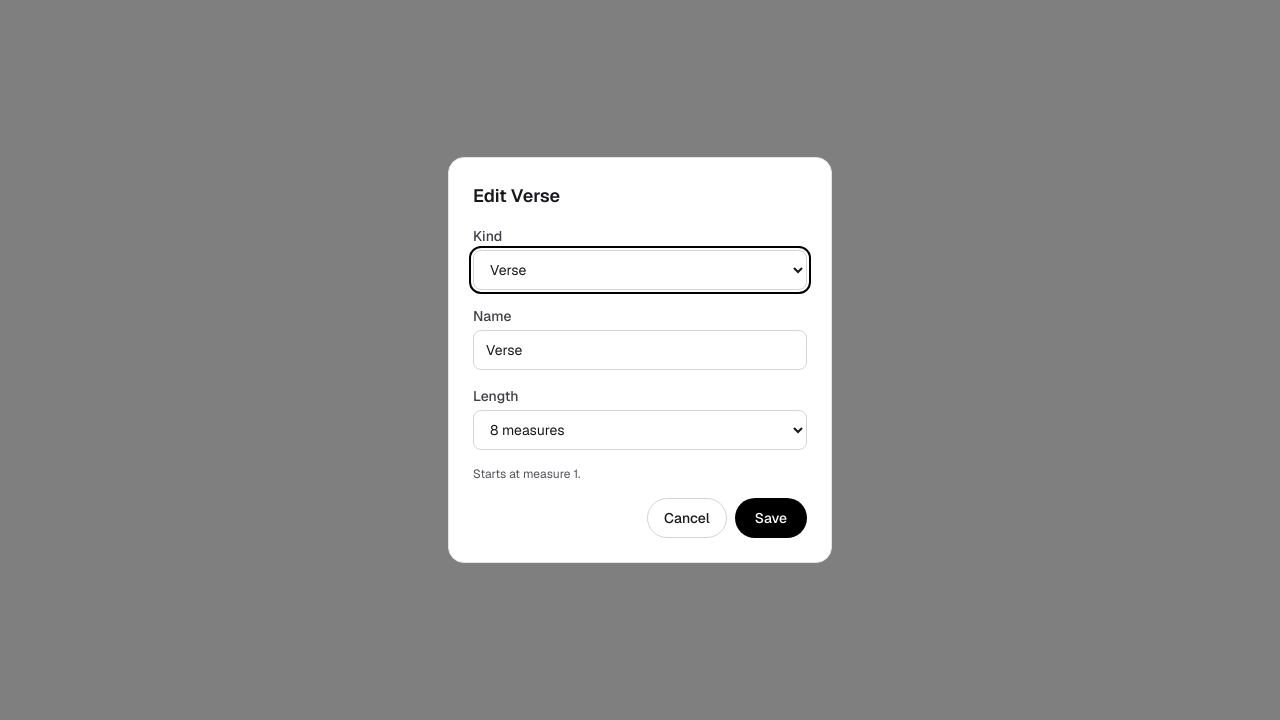
Test: SectionDialog › shows a refusal in the dialog and keeps it open
Click the button "Save": (771, 518) [735, 498, 807, 538]
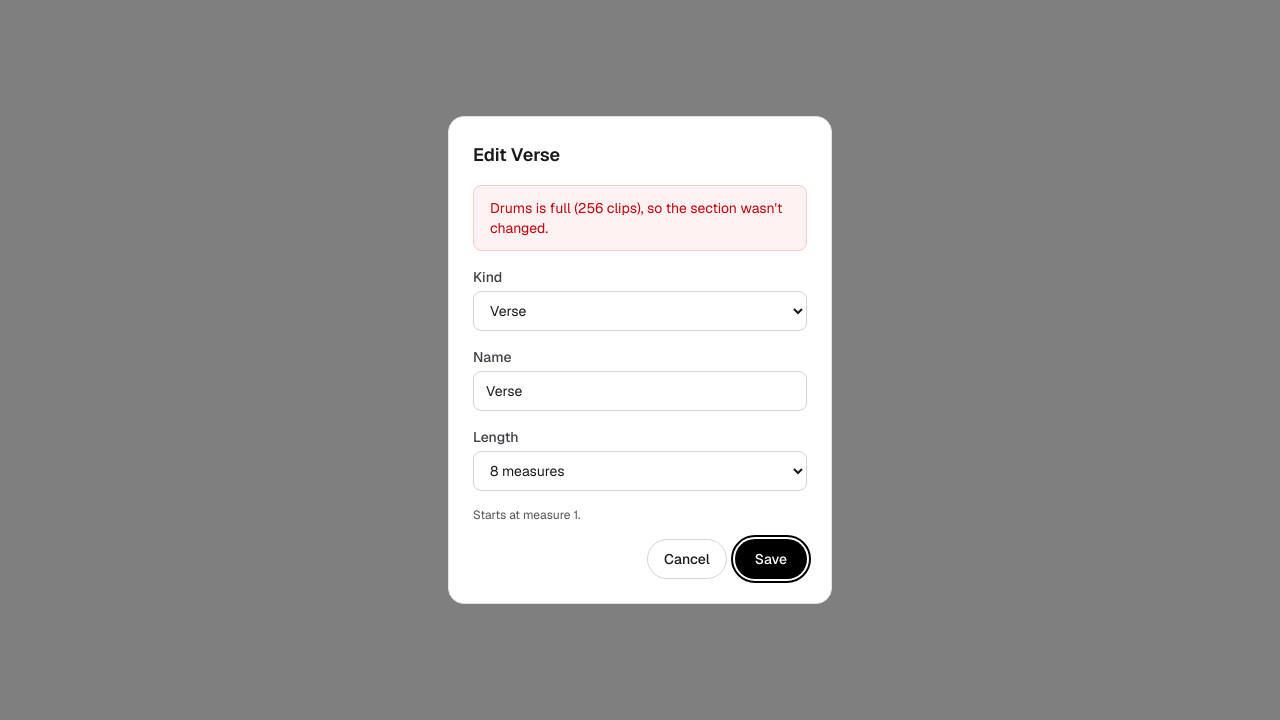
Expected: the message shows "Drums is full", [490, 199, 782, 237]
